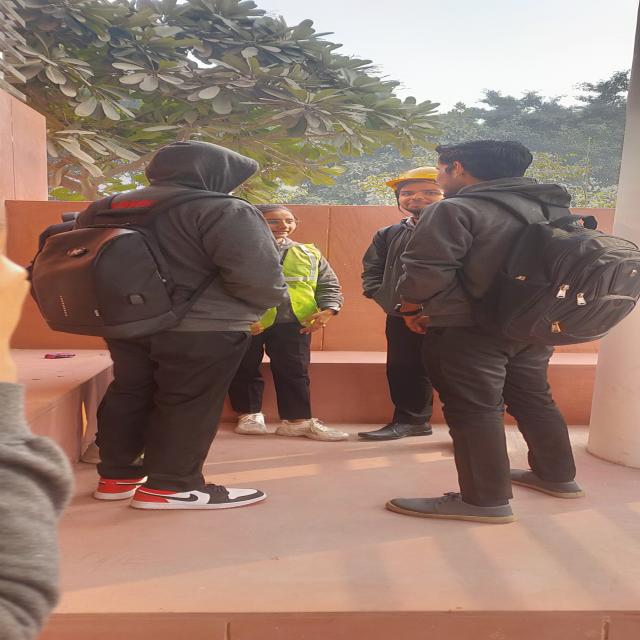unsafe: (391, 138, 640, 520), (43, 136, 287, 511)
